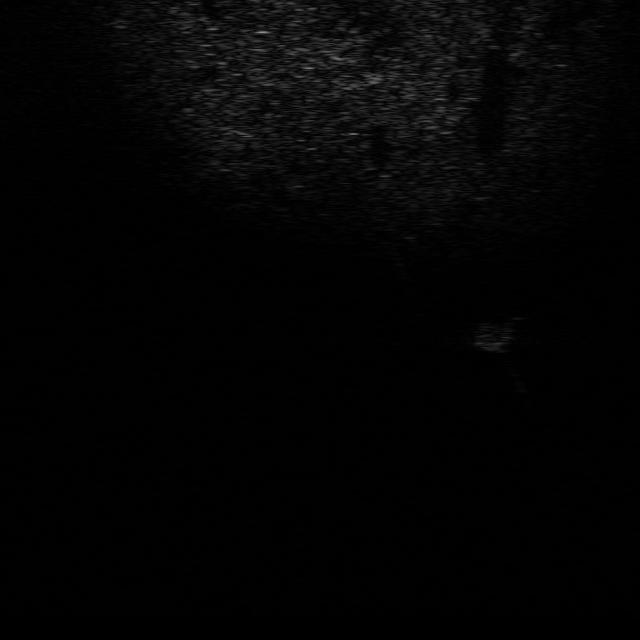cube: (473, 317, 518, 355)
